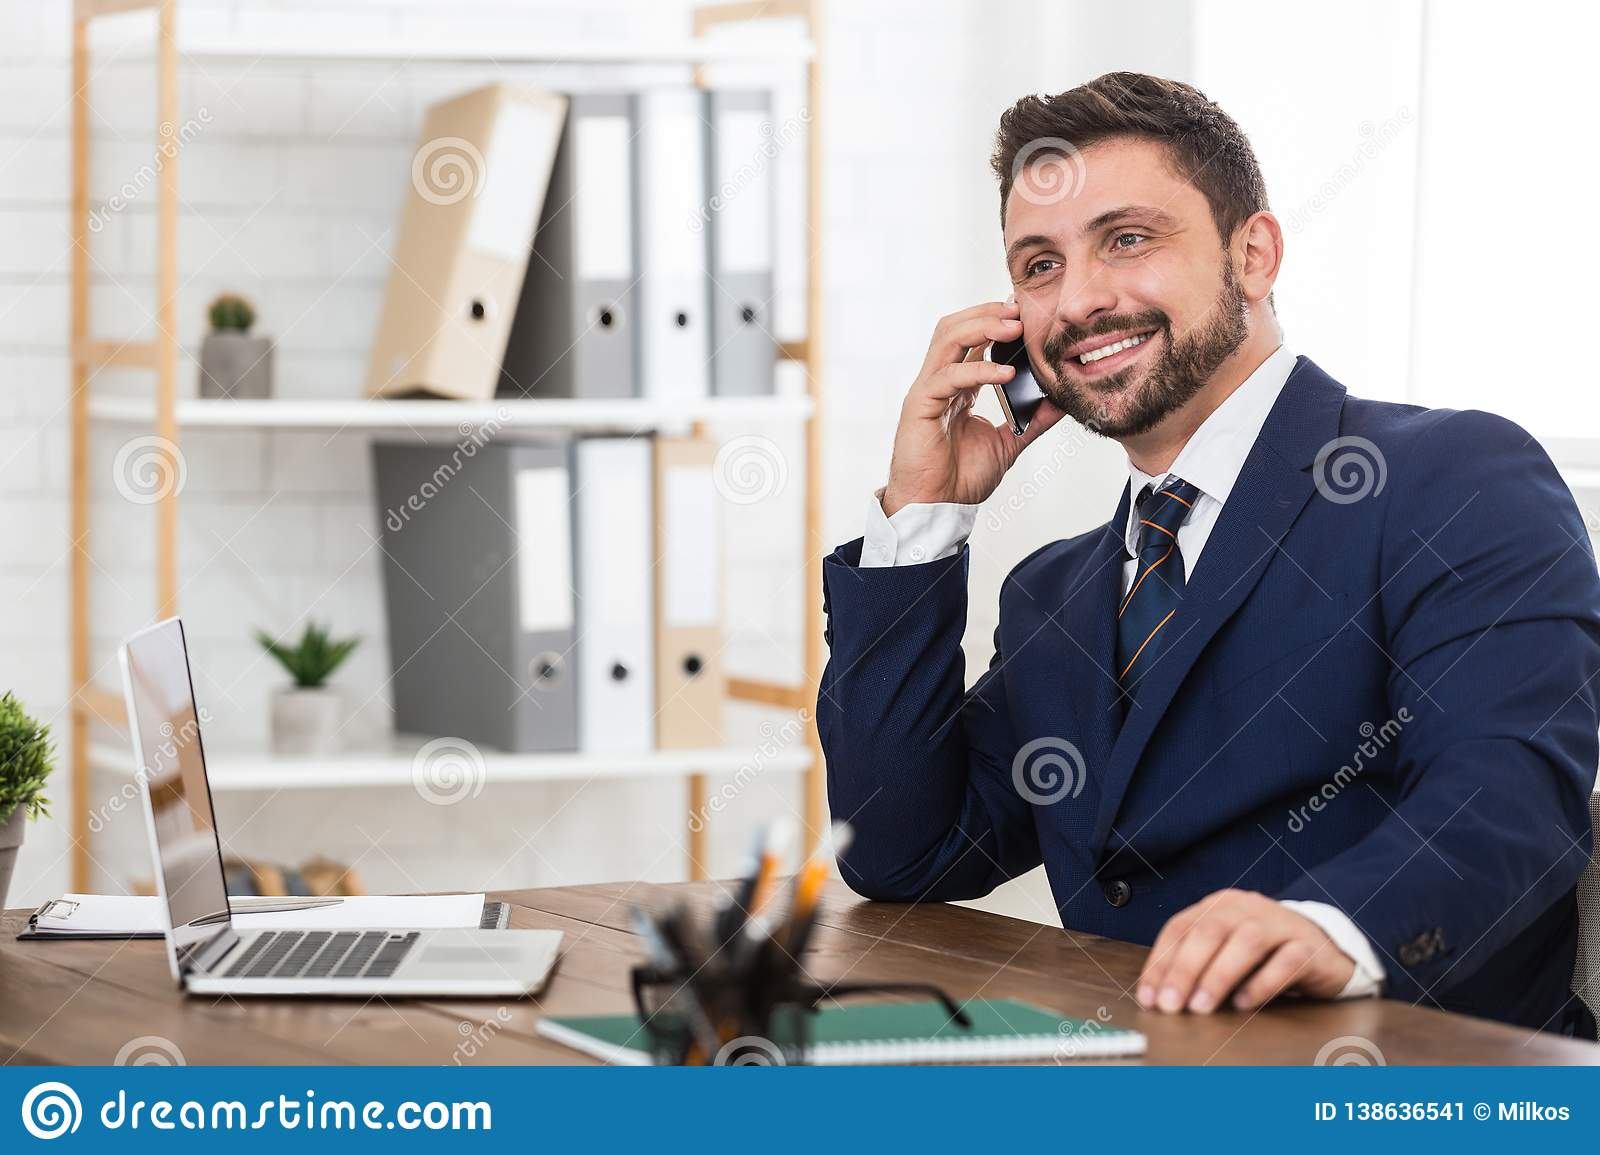phone: (980, 320, 1045, 438)
talk: (884, 202, 1193, 496)
